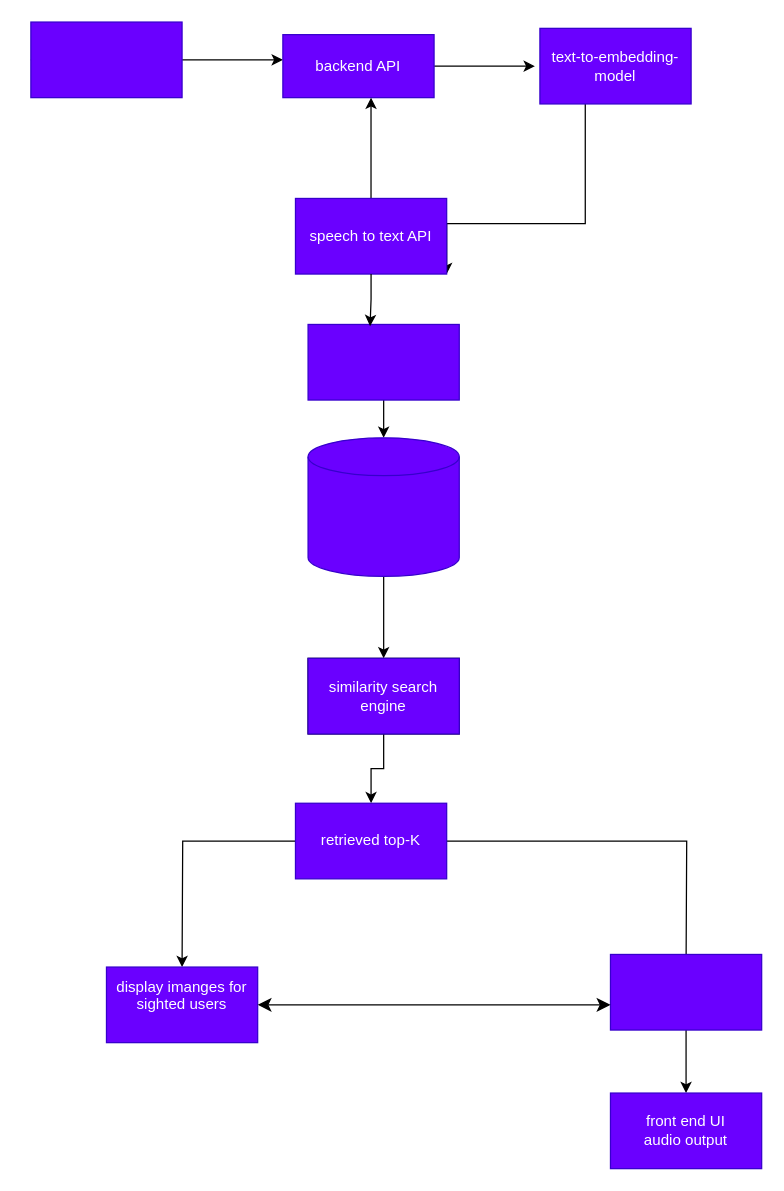
This 784x1191 diagram has some shape labels left out. The box of each missing label's shape, as (x1, y1, x2, y2) in pixels:
audio description generator: (609, 953, 762, 1030)
database(embedding storage: (307, 437, 459, 576)
image-to-embedding-model: (307, 323, 459, 400)
text or voice input: (30, 21, 182, 98)
